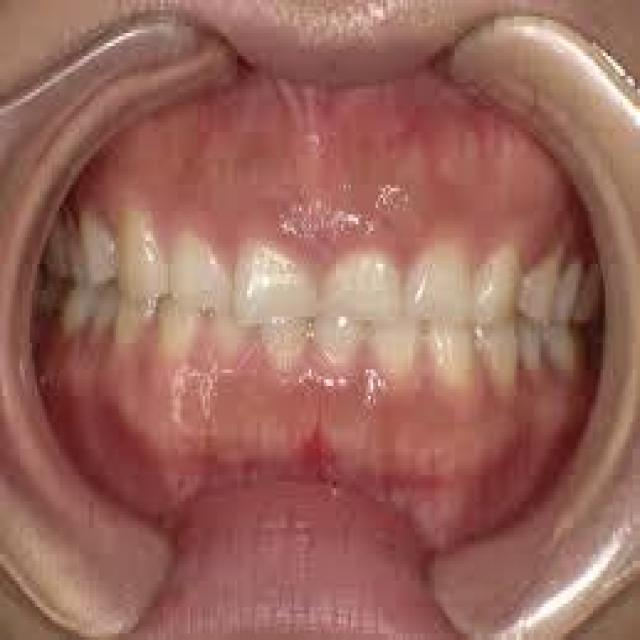Tooth: (232, 241, 316, 323), (400, 234, 479, 320), (316, 244, 400, 317), (166, 231, 232, 310), (418, 317, 477, 399), (116, 208, 168, 297), (363, 307, 418, 383), (208, 284, 257, 369), (472, 317, 519, 396), (156, 290, 200, 366), (477, 244, 521, 320), (516, 251, 558, 320), (79, 211, 116, 284), (314, 313, 358, 369), (114, 290, 158, 343), (262, 317, 309, 366), (541, 313, 573, 373), (549, 264, 583, 320), (514, 313, 541, 369)
